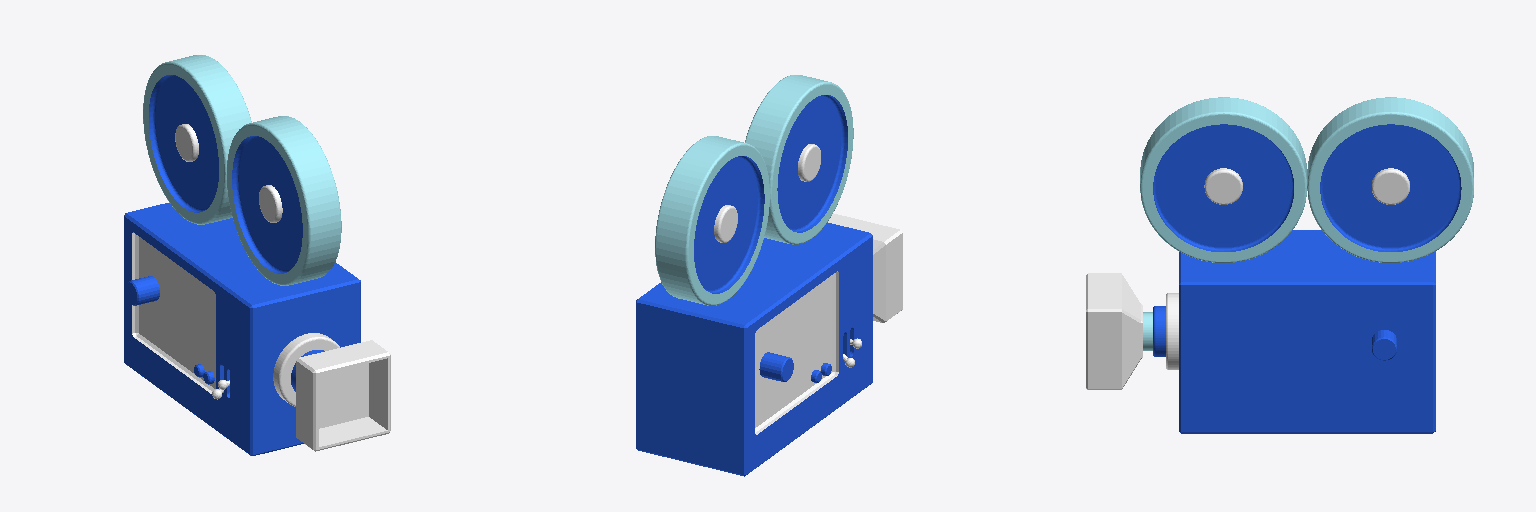
The model's file is Camera.obj.
3 renders of one model, left to right at view 1: azimuth 30°, elevation 25°; view 2: azimuth 150°, elevation 25°; view 3: azimuth 270°, elevation 25°, orthographic.
Parts seen in each view (by area): view 1: camera; view 2: camera; view 3: camera.
Part boxes in pixels (left/top/right/bottom): camera: left=124, top=55, right=390, bottom=455; camera: left=636, top=75, right=902, bottom=476; camera: left=1086, top=97, right=1473, bottom=433.
Bounding box in the file's own units: 130 × 260 × 302.